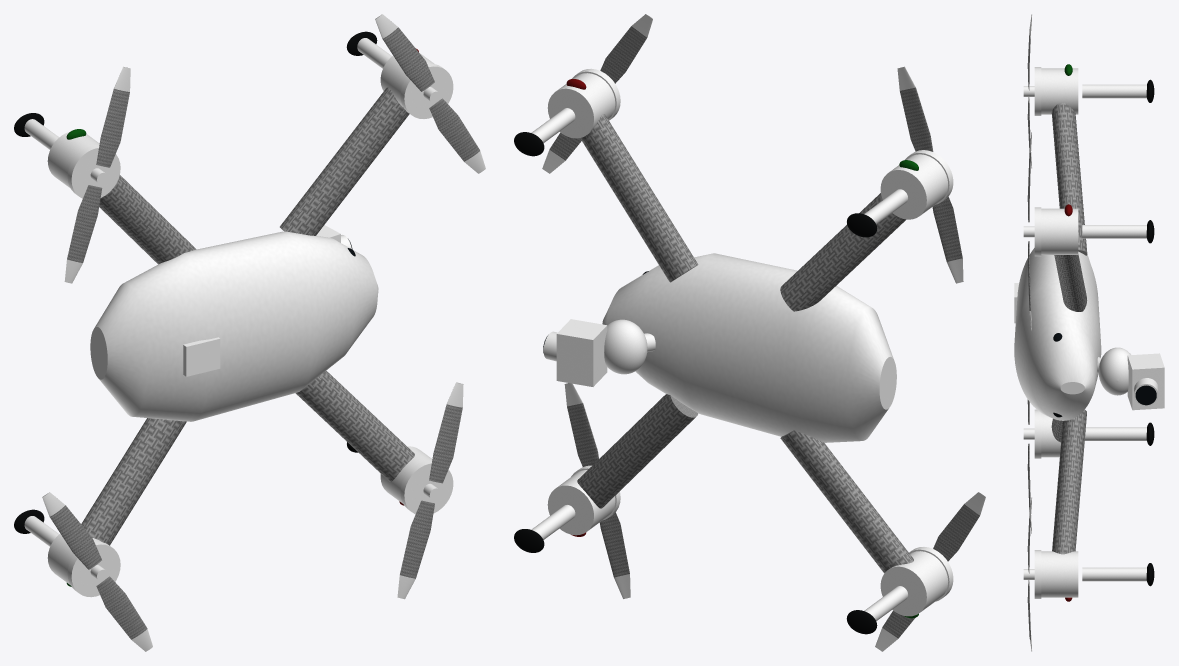
The model's file is small_drone.obj.
3 views of the same model, side by side, from view 1: azimuth 30°, elevation 25°; view 2: azimuth 150°, elevation 25°; view 3: azimuth 270°, elevation 25° (orthographic). The views are drawn at different scales.
Parts seen in each view (by area): view 1: AirframeWhite, RotorCarbon, BrushedMetal, DarkMetal, SafetyYellow, BlackPlastic, PolymerGrey, Rubber; view 2: BlackPlastic, RotorCarbon, DarkMetal, PolymerGrey, AirframeWhite, SafetyYellow, Rubber, BrushedMetal; view 3: RotorCarbon, BlackPlastic, AirframeWhite, DarkMetal, BrushedMetal, PolymerGrey, Rubber, TintedGlazing.
Part boxes in pixels (box(x1,y1,x2,y2)): AirframeWhite: box(90, 231, 378, 421); RotorCarbon: box(43, 14, 479, 639); BrushedMetal: box(67, 63, 453, 597); DarkMetal: box(47, 53, 440, 584); SafetyYellow: box(42, 14, 485, 651); BlackPlastic: box(24, 38, 391, 546); PolymerGrey: box(183, 225, 340, 376); Rubber: box(14, 31, 377, 533); BlackPlastic: box(531, 108, 907, 620); RotorCarbon: box(549, 14, 985, 638); DarkMetal: box(543, 73, 948, 616); PolymerGrey: box(556, 319, 607, 386); AirframeWhite: box(618, 253, 896, 440); SafetyYellow: box(542, 14, 985, 651); Rubber: box(514, 132, 877, 634); BrushedMetal: box(571, 68, 953, 601); RotorCarbon: box(1027, 14, 1087, 639); BlackPlastic: box(1068, 84, 1146, 581); AirframeWhite: box(1014, 248, 1084, 420); DarkMetal: box(1023, 68, 1158, 597); BrushedMetal: box(1034, 67, 1101, 598); PolymerGrey: box(1014, 283, 1164, 410); Rubber: box(1146, 79, 1154, 586); TintedGlazing: box(1053, 333, 1156, 417).
Bounding box in the file's own units: 0.3253 × 0.4211 × 0.1106.
11 materials, 7 textured.
